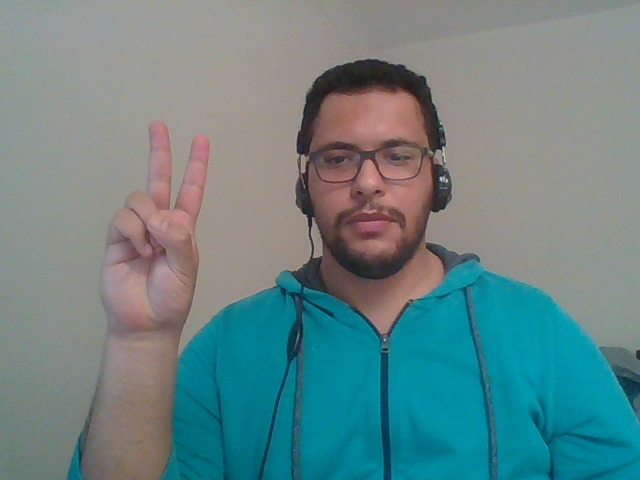vectory: (68, 103, 234, 354)
